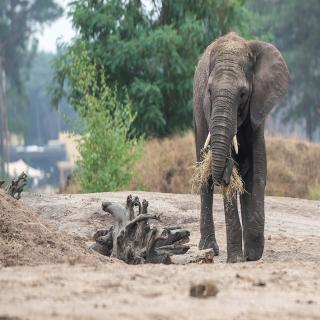Elephant: (191, 32, 295, 270)
